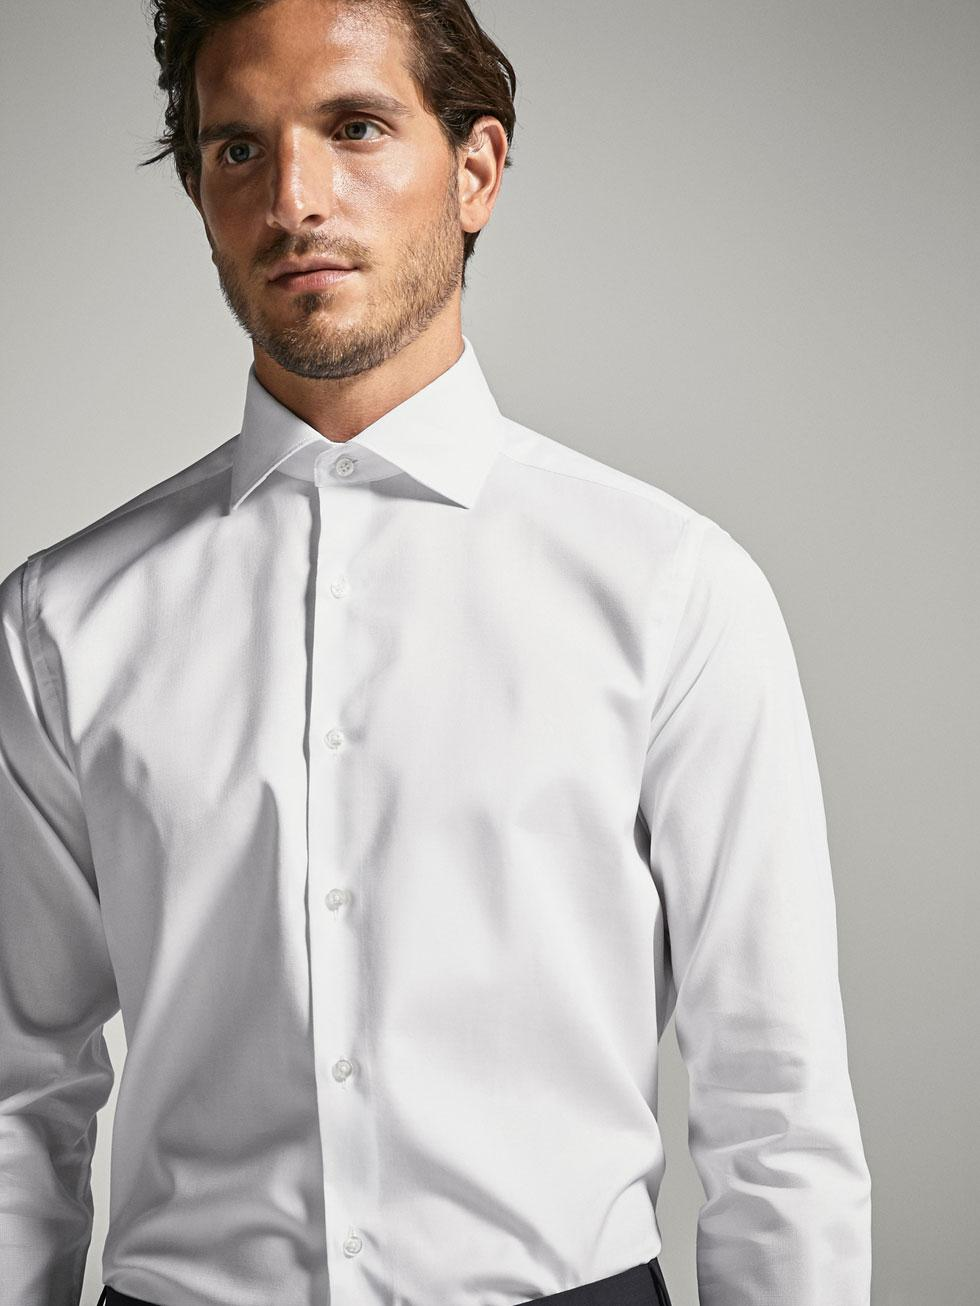teeshirt: (2, 351, 887, 1306)
